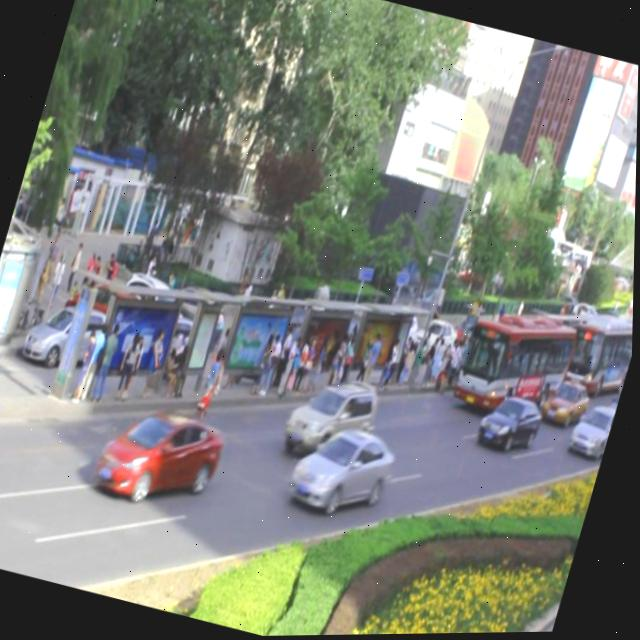car: (92, 395, 230, 517), (285, 414, 401, 524), (283, 368, 386, 468), (476, 389, 545, 457), (567, 400, 618, 461), (538, 376, 593, 432), (601, 388, 624, 434)
van: (451, 300, 579, 427), (551, 298, 635, 402)
